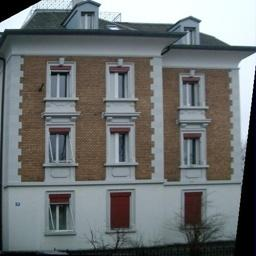building: (3, 0, 248, 256)
